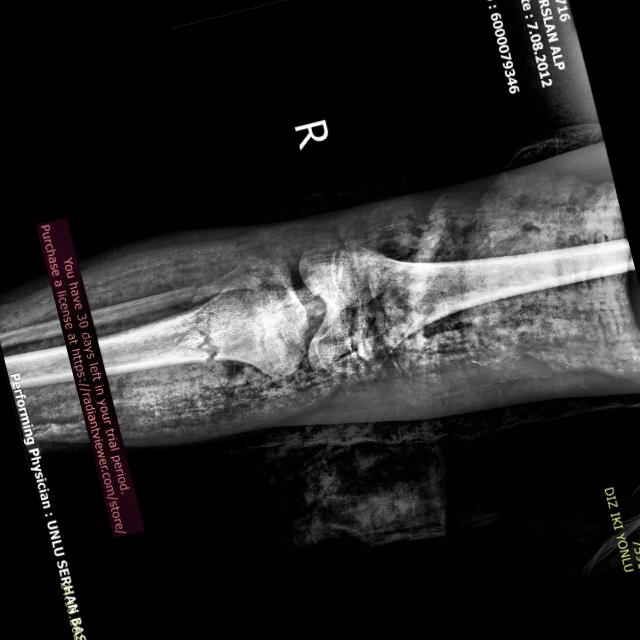Fracture: (170, 305, 224, 376), (178, 277, 208, 308)
